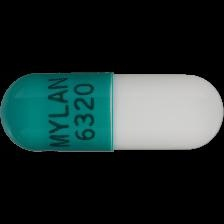0378-6320: (0, 0, 224, 224)
